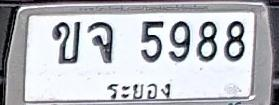5: (140, 20, 164, 62)
8: (196, 20, 217, 62), (224, 20, 244, 62)
9: (168, 20, 191, 62)
A02: (52, 21, 80, 64)
A08: (88, 21, 114, 63)
RYG: (104, 76, 172, 102)
